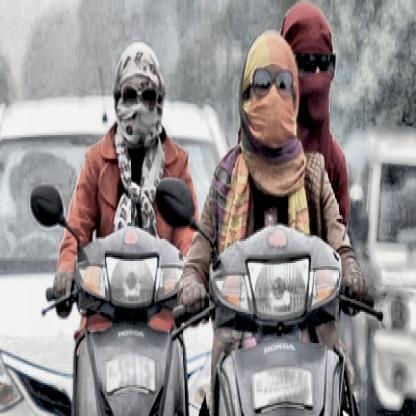not_wear: (245, 39, 300, 150), (284, 9, 332, 122), (115, 48, 160, 145)
